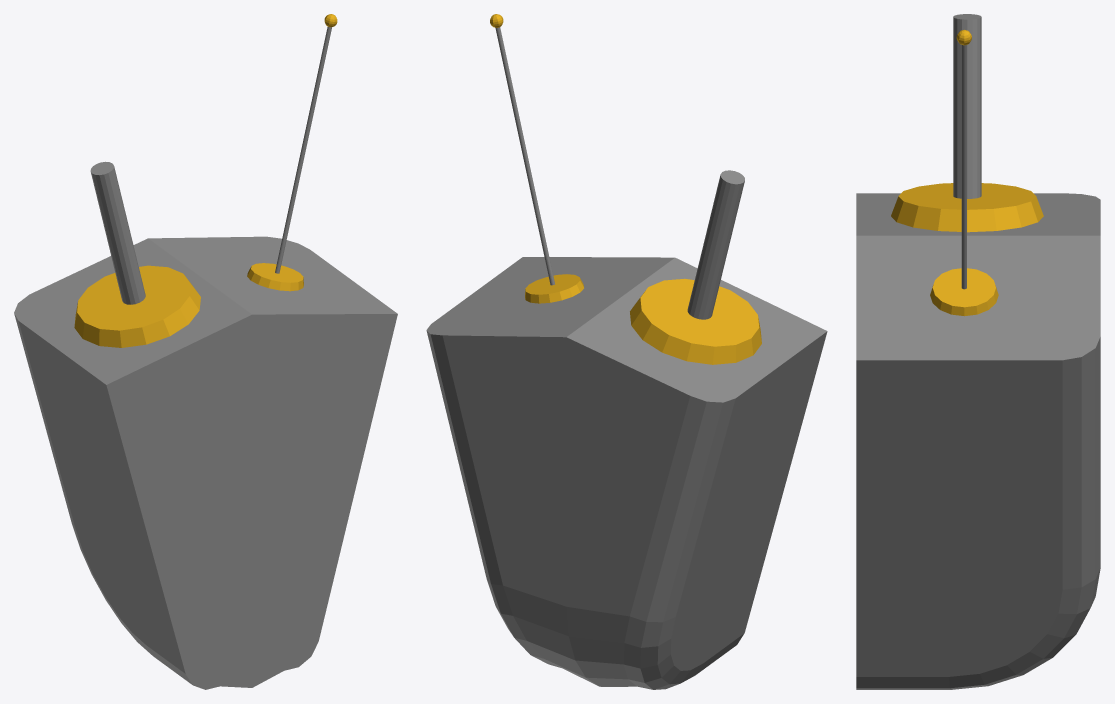
Rendered from sentry.fbx.
3 renders of one model, left to right at view 1: azimuth 30°, elevation 25°; view 2: azimuth 150°, elevation 25°; view 3: azimuth 270°, elevation 25°, orthographic. The views are drawn at different scales.
Parts seen in each view (by area): view 1: Cube, Cylinder, Cylinder.001; view 2: Cube, Cylinder, Cylinder.001; view 3: Cube, Cylinder, Cylinder.001.
Part boxes in pixels (x1=…): Cube: x1=14, y1=236, x2=397, y2=689; Cylinder: x1=74, y1=161, x2=200, y2=347; Cylinder.001: x1=247, y1=14, x2=337, y2=291; Cube: x1=426, y1=257, x2=827, y2=689; Cylinder: x1=630, y1=170, x2=761, y2=364; Cylinder.001: x1=490, y1=14, x2=583, y2=303; Cube: x1=856, y1=193, x2=1100, y2=689; Cylinder: x1=891, y1=14, x2=1043, y2=232; Cylinder.001: x1=930, y1=29, x2=998, y2=316.
Bounding box in the file's own units: 29.13 × 58.15 × 18.02.
